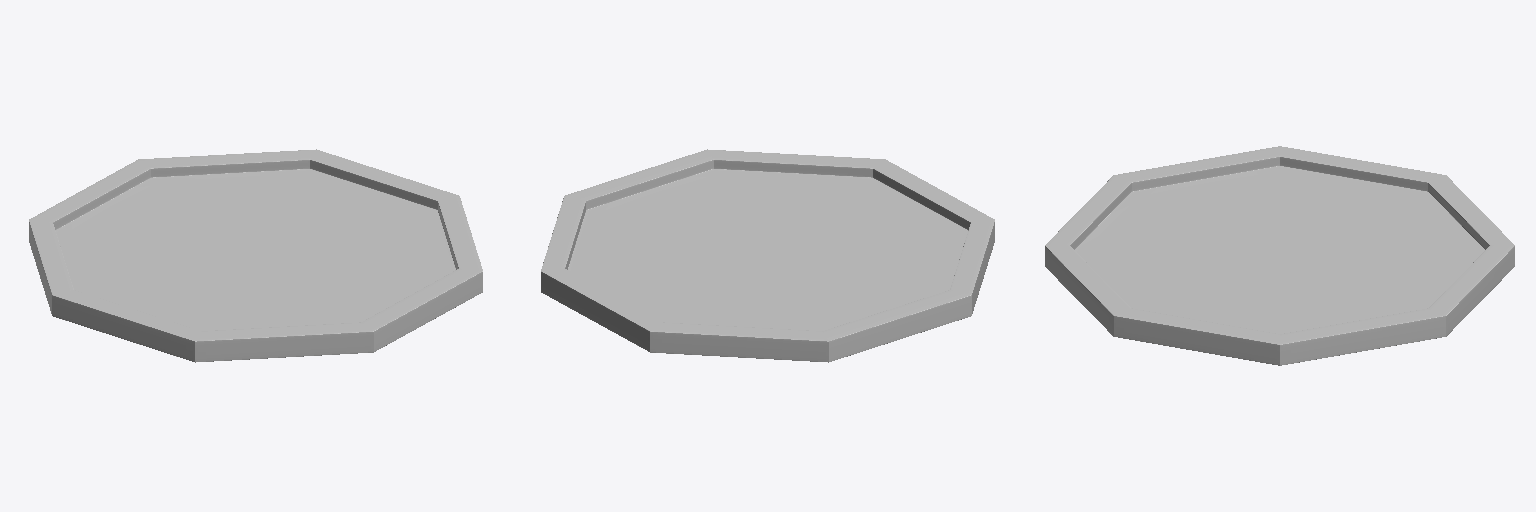
File: Teleport_Pad_HP.obj
3 renders of one model, left to right at view 1: azimuth 30°, elevation 25°; view 2: azimuth 150°, elevation 25°; view 3: azimuth 270°, elevation 25°, orthographic.
Parts seen in each view (by area): view 1: pCylinder1; view 2: pCylinder1; view 3: pCylinder1.
Boxes of the visible parts, x1,y1,x2,y2 form: pCylinder1: [29, 149, 482, 362]; pCylinder1: [541, 149, 994, 362]; pCylinder1: [1045, 146, 1514, 365].
Size of the model in its own units: 2 by 0.1 by 2.